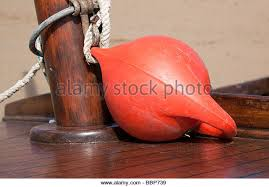buoy: (100, 35, 214, 145)
